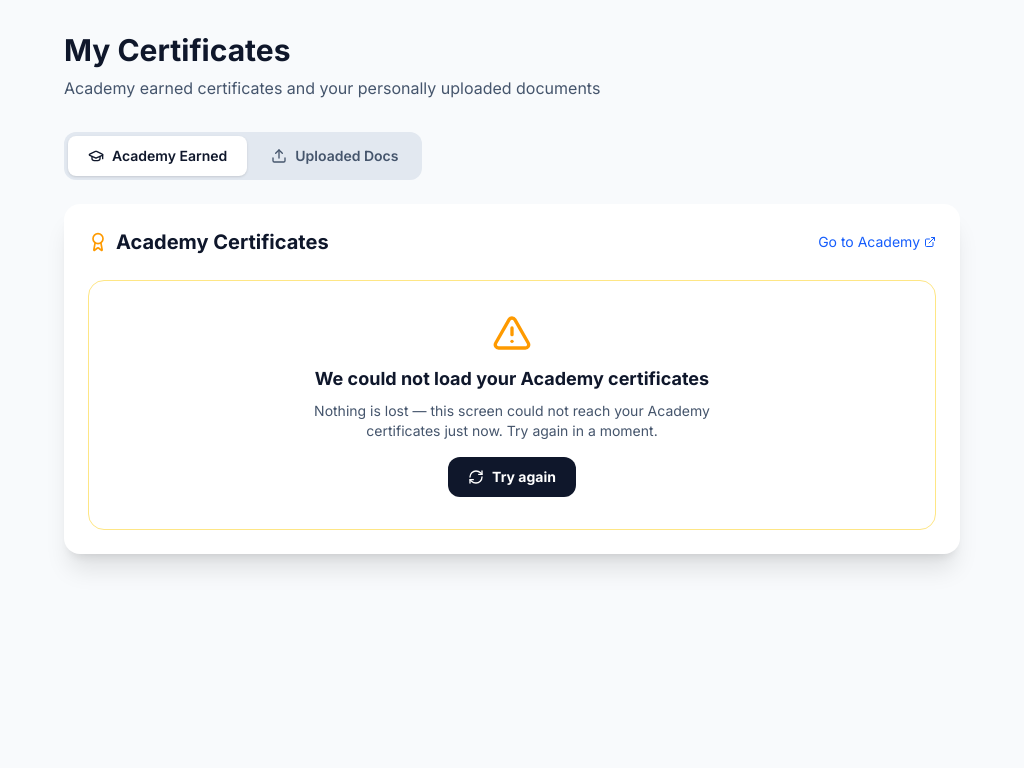
#592 — the certificates screen, where the two lists fail apart › AND THE OTHER LIST IS NOT BLAMED FOR IT
Click the button "Uploaded Docs" at (335, 156), box [251, 136, 418, 176]
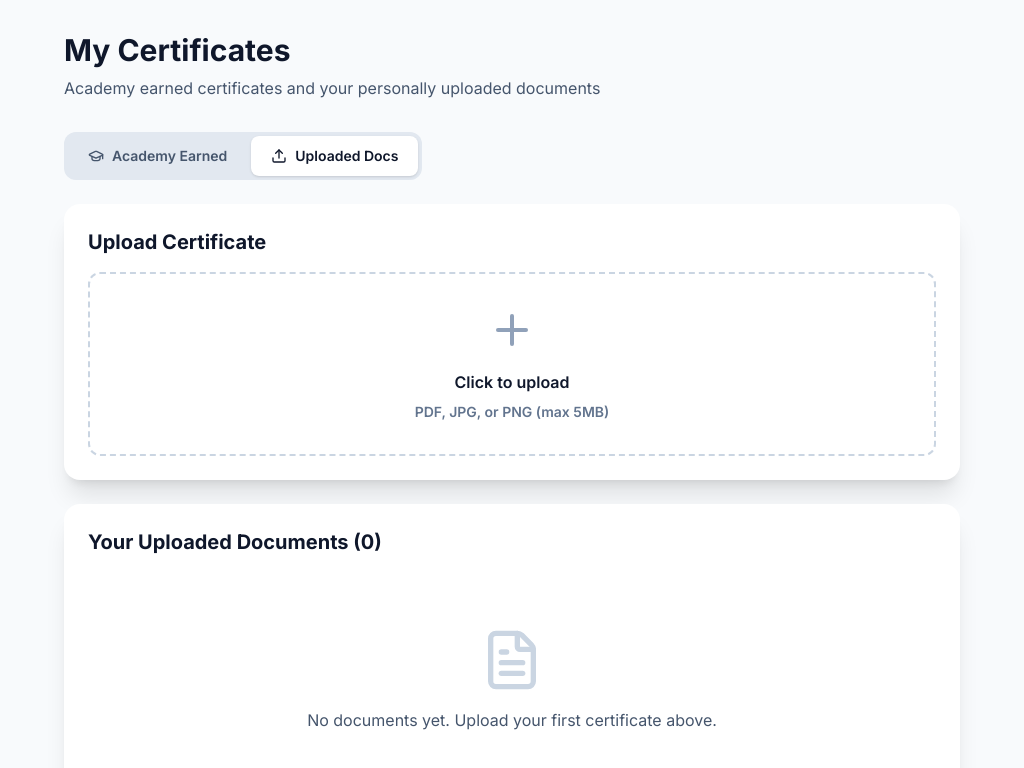
Now the text "No documents yet" is shown, box [307, 710, 717, 730]
Now the text "We could not load" is gone
Now the text "Your Uploaded Documents (0)" is shown, box [88, 530, 382, 554]
